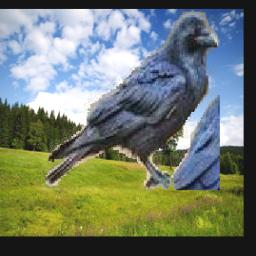Crow: (41, 11, 220, 191)
